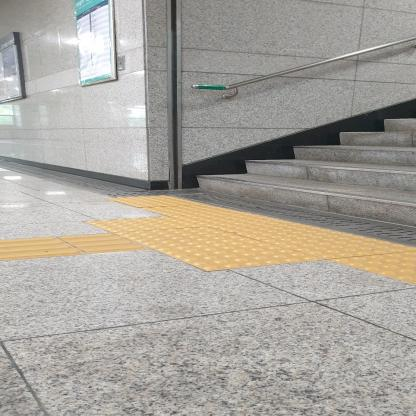go: (55, 233, 153, 254)
stop: (152, 240, 326, 271), (259, 233, 416, 259), (112, 226, 258, 249), (207, 221, 344, 240), (83, 216, 208, 233)
